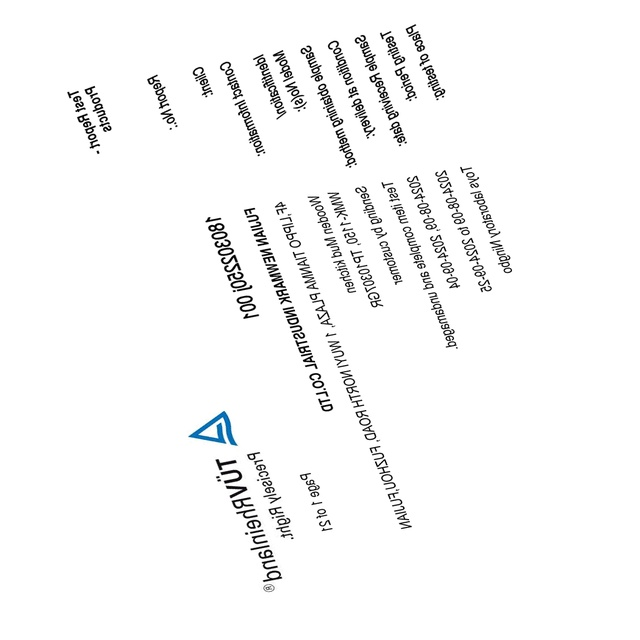tuv_rheinland: (187, 409, 294, 600)
